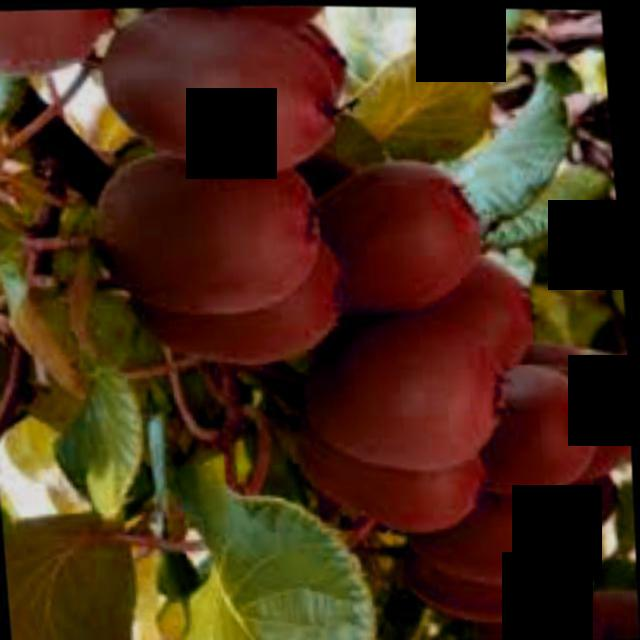kiwi: (94, 141, 325, 320), (108, 13, 341, 180), (123, 220, 352, 373), (300, 315, 510, 480), (285, 391, 491, 542), (312, 161, 487, 320), (397, 366, 600, 503), (455, 346, 631, 473), (397, 487, 574, 586), (400, 527, 548, 628)
